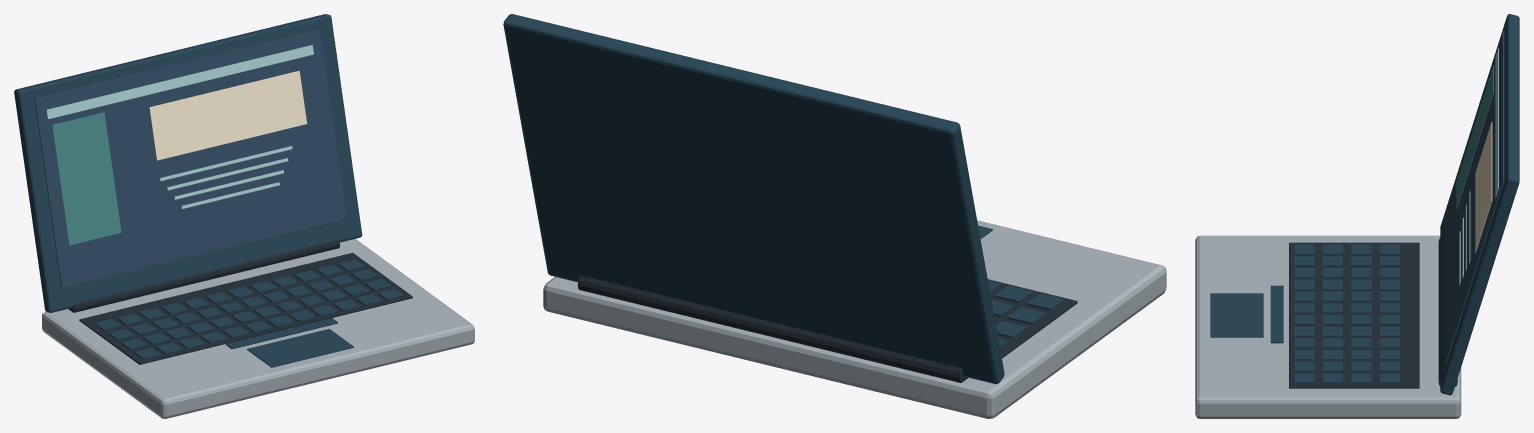
File: open_laptop.glb
3 renders of one model, left to right at view 1: azimuth 30°, elevation 25°; view 2: azimuth 150°, elevation 25°; view 3: azimuth 270°, elevation 25°, orthographic. The views are drawn at different scales.
Parts seen in each view (by area): view 1: MESH_open_laptop; view 2: MESH_open_laptop; view 3: MESH_open_laptop.
Boxes of the visible parts, x1,y1,x2,y2 form: MESH_open_laptop: (14, 14, 474, 418); MESH_open_laptop: (503, 14, 1166, 418); MESH_open_laptop: (1195, 14, 1519, 418).
Size of the model in its own units: 0.33 by 0.2254 by 0.2733.
